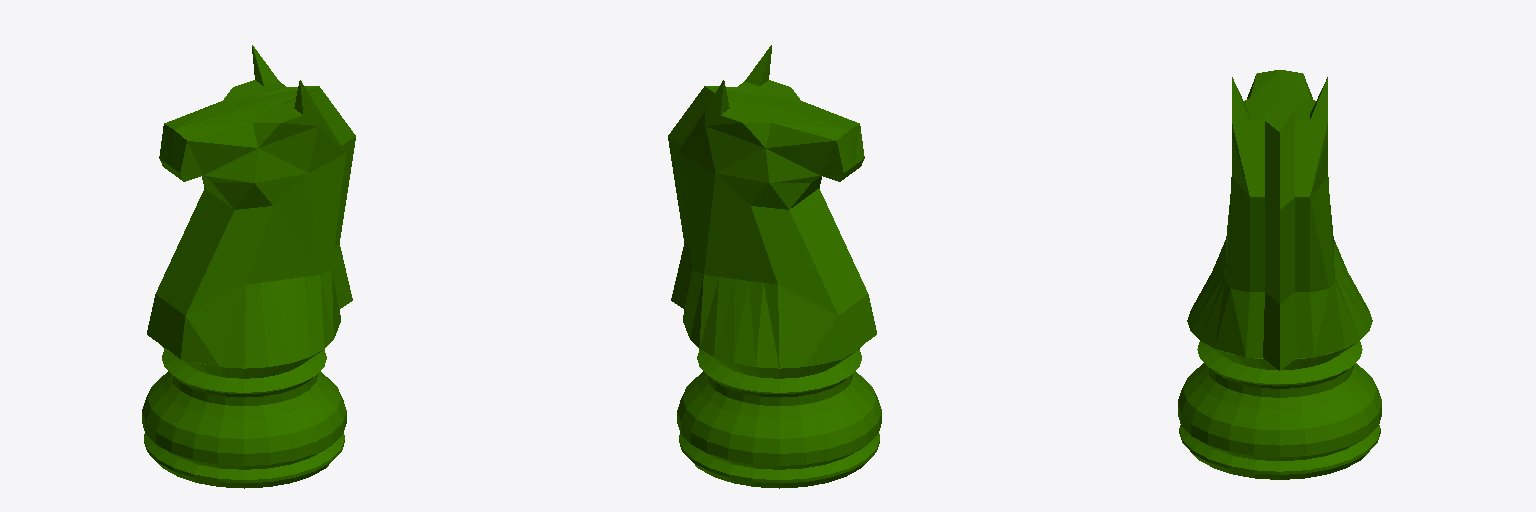
Rendered from knight1.obj.
3 views of the same model, side by side, from view 1: azimuth 30°, elevation 25°; view 2: azimuth 150°, elevation 25°; view 3: azimuth 270°, elevation 25° (orthographic).
Visible parts, largest first — view 1: Mesh1_Model; view 2: Mesh1_Model; view 3: Mesh1_Model.
Boxes of the visible parts, x1=… form: Mesh1_Model: x1=142, y1=45, x2=355, y2=488; Mesh1_Model: x1=668, y1=45, x2=881, y2=488; Mesh1_Model: x1=1178, y1=70, x2=1381, y2=479.
Size of the model in its own units: 0.8838 by 1.6 by 0.7815.